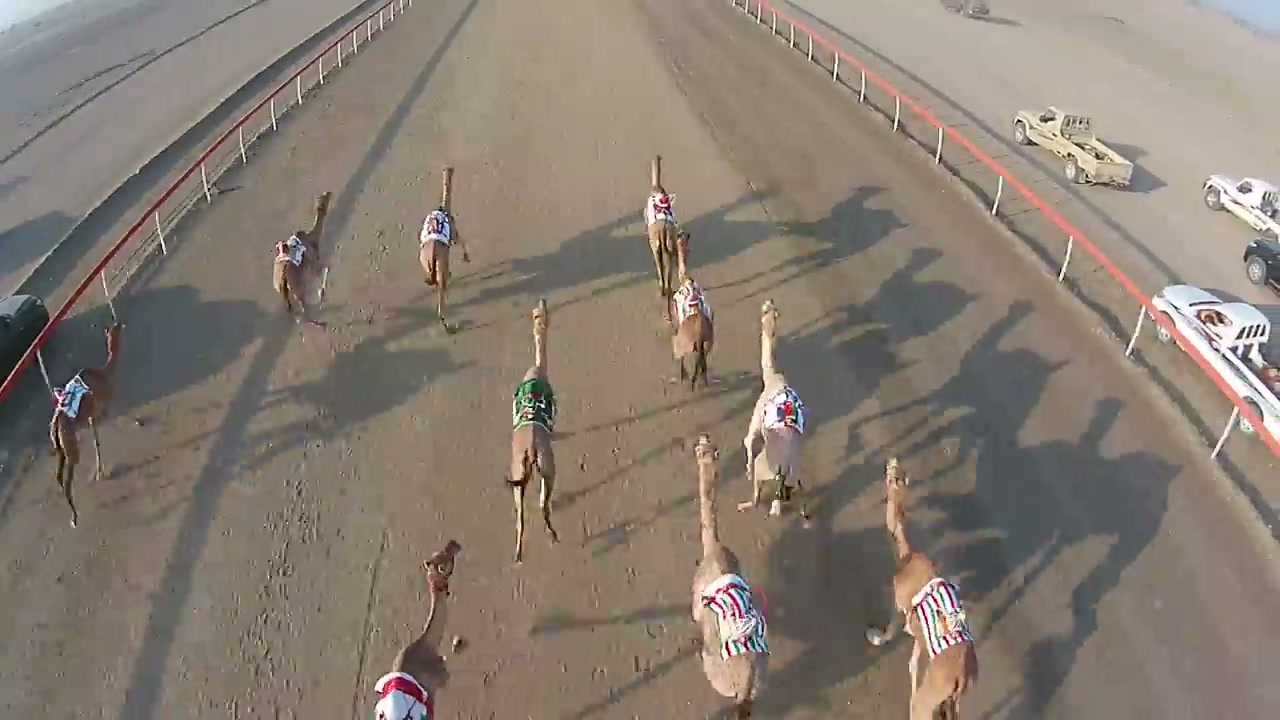animal_foot_print: (186, 320, 391, 709), (537, 478, 689, 711)
